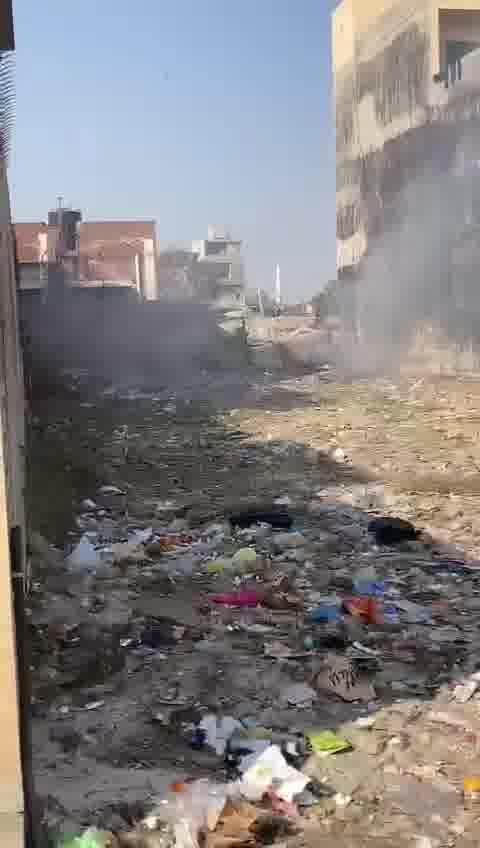garbage: (35, 366, 479, 848)
